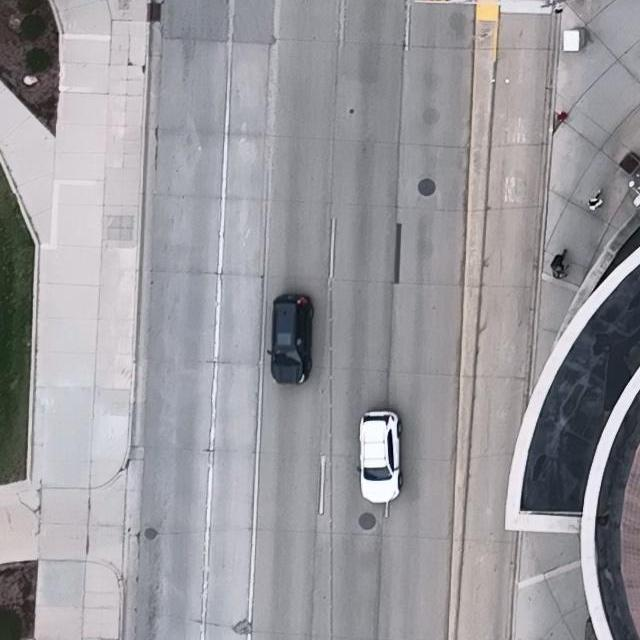car: (356, 409, 403, 503), (266, 291, 313, 383)
